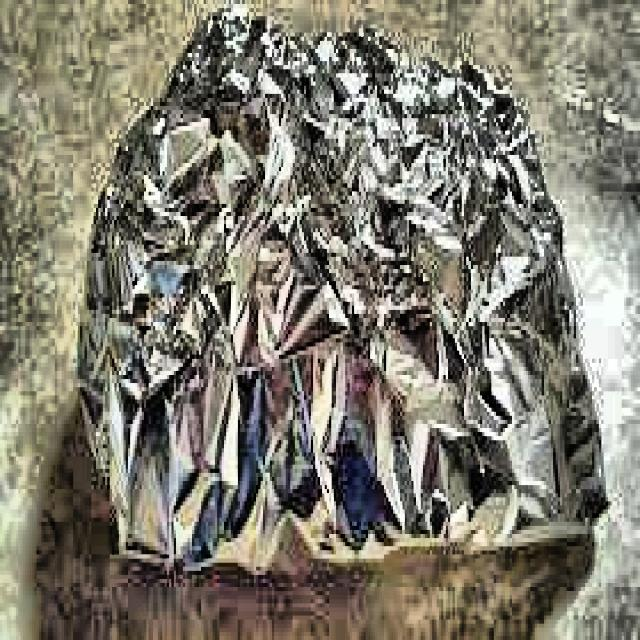Foil: (40, 4, 615, 596)
